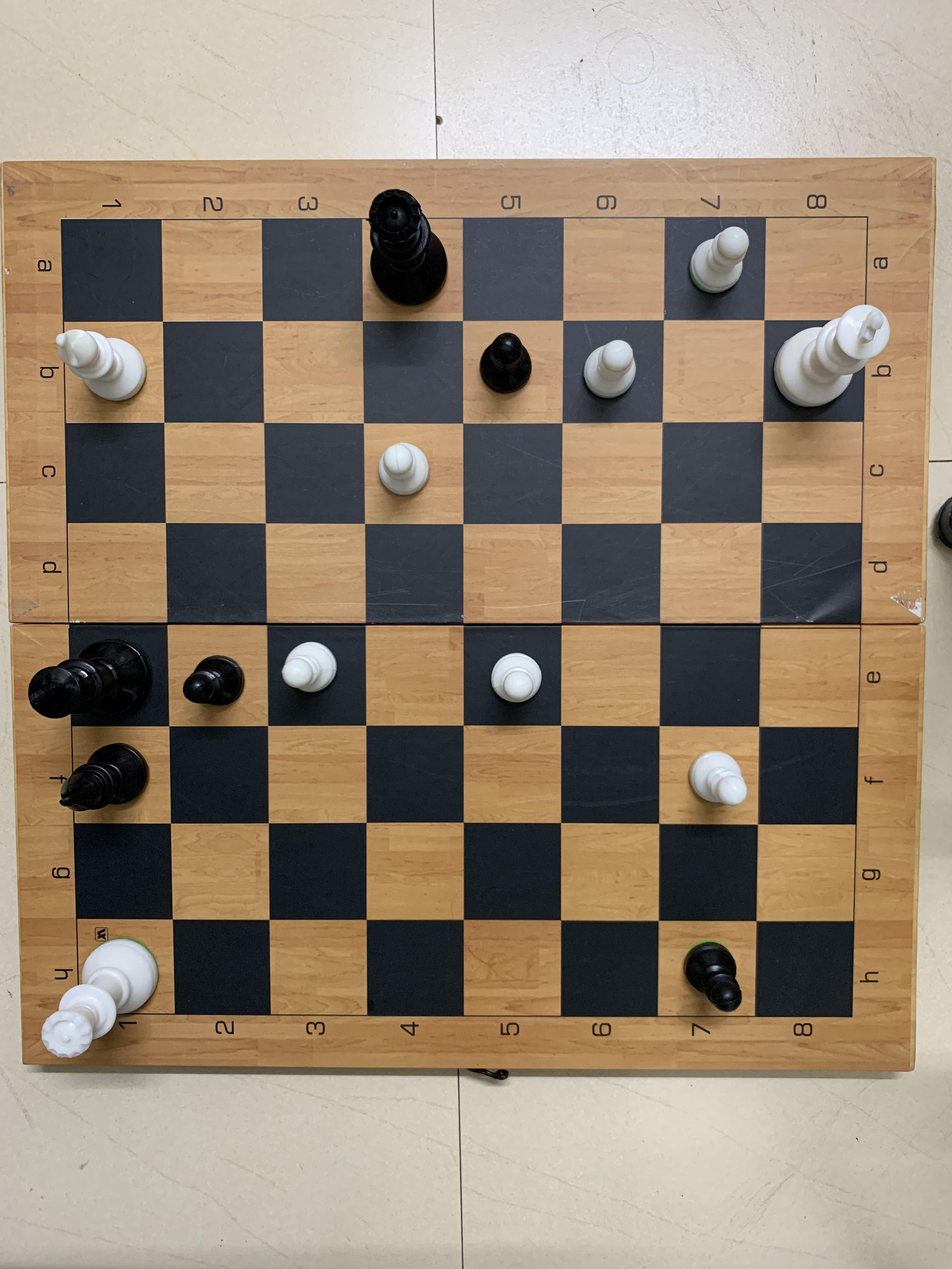black_bishop: (55, 737, 162, 821)
black_king: (23, 629, 156, 727)
black_pawn: (673, 936, 755, 1016), (470, 333, 546, 397), (180, 646, 249, 711)
black_queen: (351, 184, 459, 308)
white_bishop: (48, 322, 152, 403)
white_king: (771, 303, 893, 415)
white_pawn: (687, 222, 753, 300), (685, 743, 753, 815), (575, 333, 645, 402), (372, 437, 435, 504), (281, 634, 341, 700), (484, 648, 546, 709)
white_queen: (41, 929, 164, 1065)
